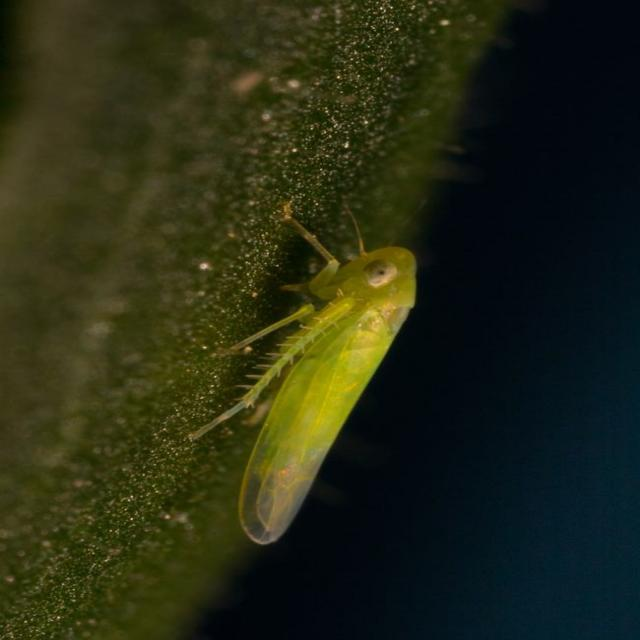Yechan: (175, 188, 422, 549)
